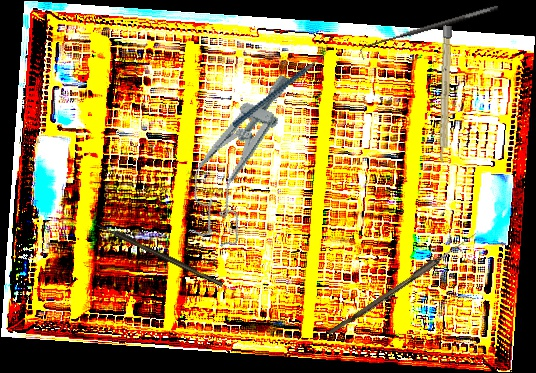Chopper: (218, 43, 343, 128)
Hook Surgical: (96, 221, 224, 288), (358, 3, 502, 61)
Scalpel Handle: (438, 25, 452, 164)
Speculum: (173, 59, 304, 252)
Surgical Spoon: (327, 229, 479, 339)
